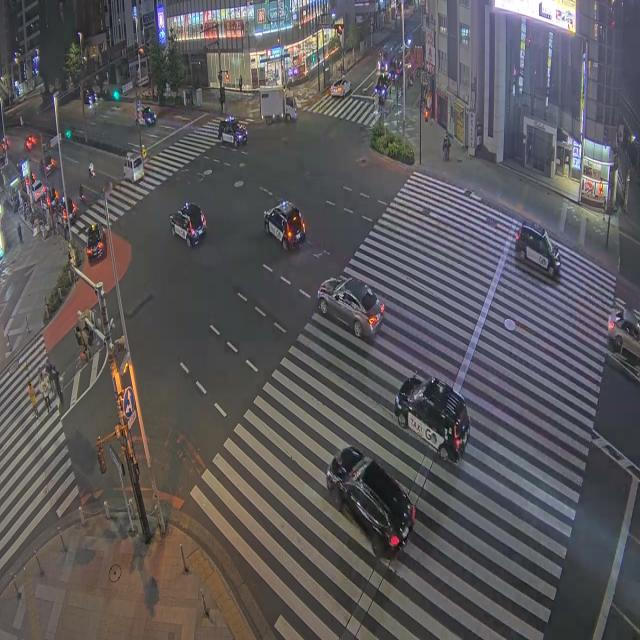car: (326, 447, 415, 557), (395, 374, 470, 462), (317, 276, 384, 338), (515, 222, 560, 277), (264, 201, 305, 249), (170, 203, 206, 247), (608, 310, 639, 358), (218, 116, 247, 146), (86, 224, 106, 261), (59, 197, 77, 223), (374, 73, 392, 97), (330, 79, 351, 97), (54, 203, 67, 229), (47, 185, 60, 207), (141, 106, 156, 125), (32, 181, 46, 201), (44, 155, 56, 175), (25, 135, 38, 151)
motorcycle: (89, 169, 95, 178)
truck: (260, 88, 296, 124)
van: (124, 152, 143, 183)
